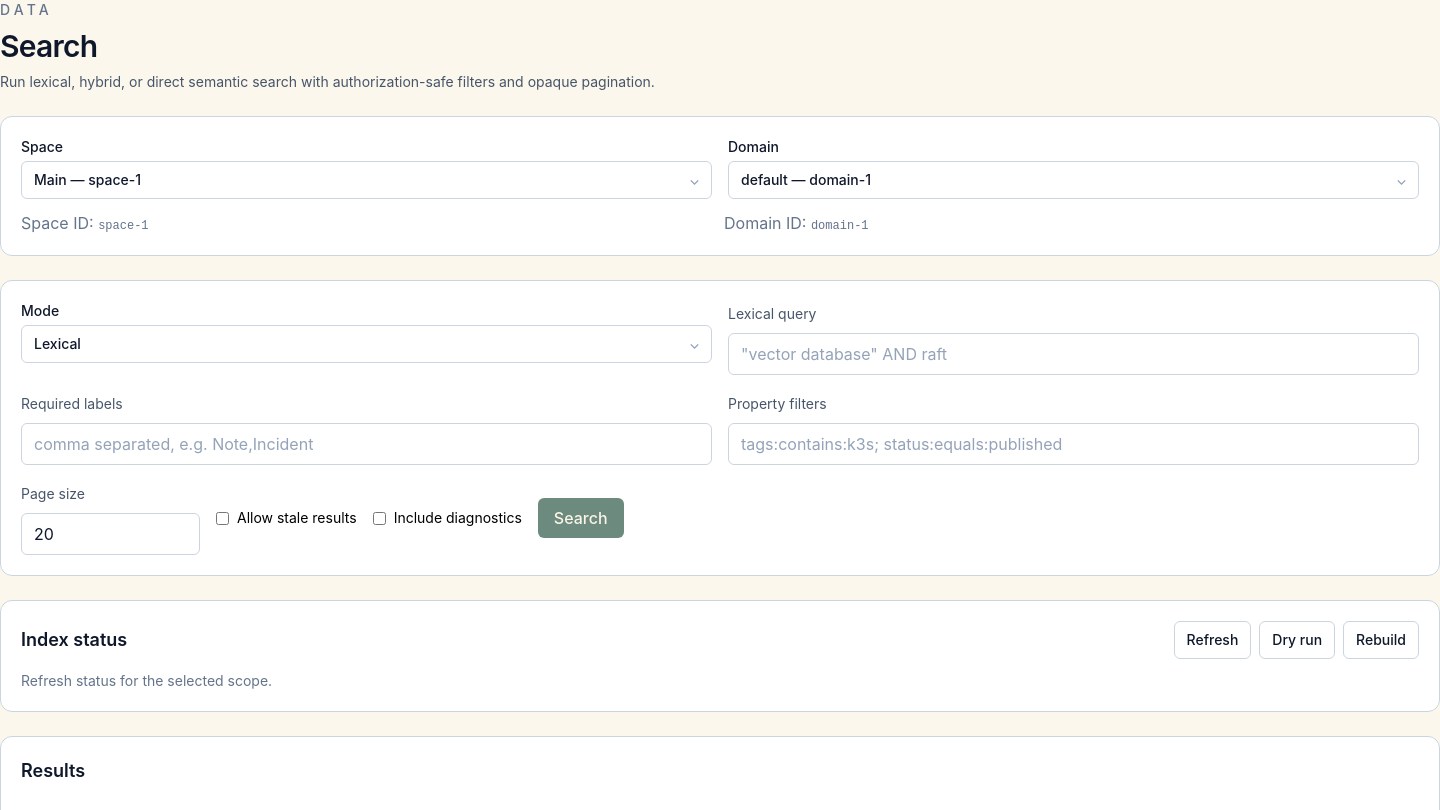
Test: direct semantic mode opens the typed semantic search form
Select "Direct semantic" in the dropdown labelled "Mode": x=366, y=344 top-left (21, 325), bottom-right (712, 363)
(page scrolled)
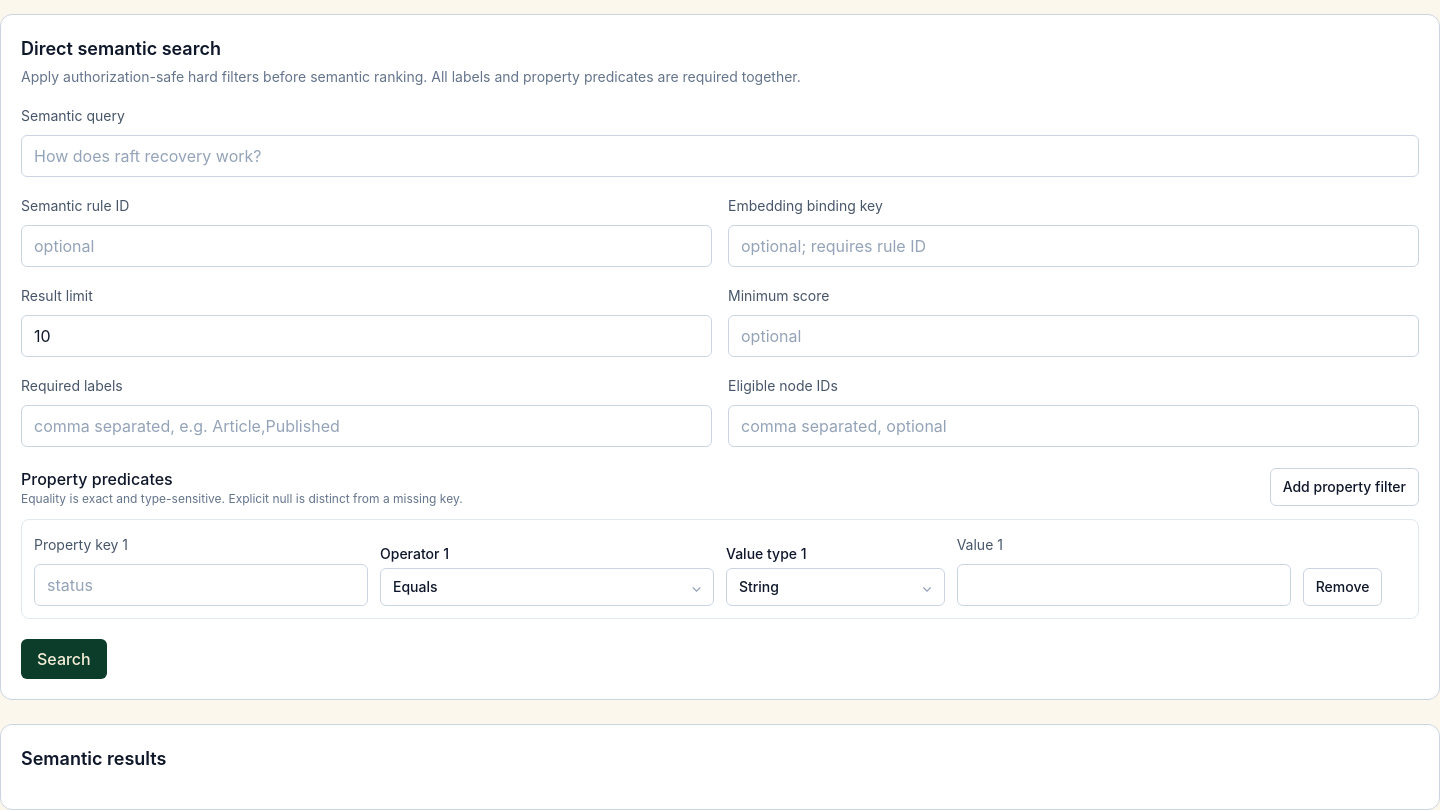
Expected: the heading "Direct semantic search" is shown, top-left (21, 38), bottom-right (221, 59)
Expected: the button "Add property filter" is shown, top-left (1270, 468), bottom-right (1419, 506)
Expected: the text labelled "Lexical query" is gone
